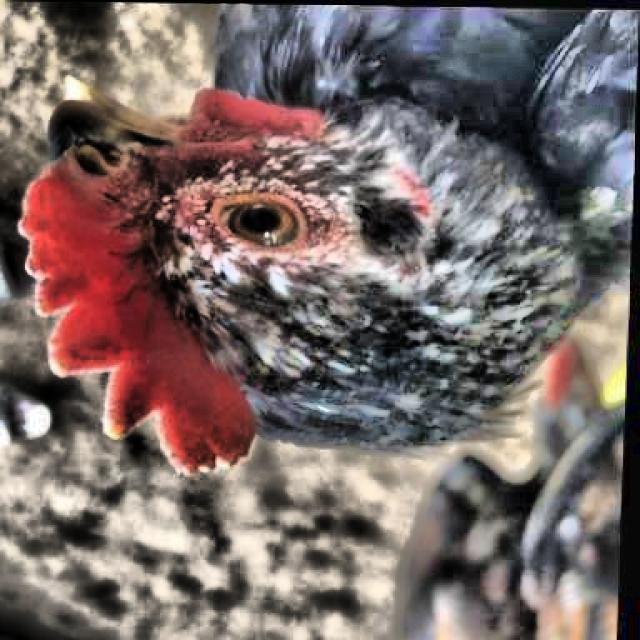Healthy: (205, 184, 312, 258)
